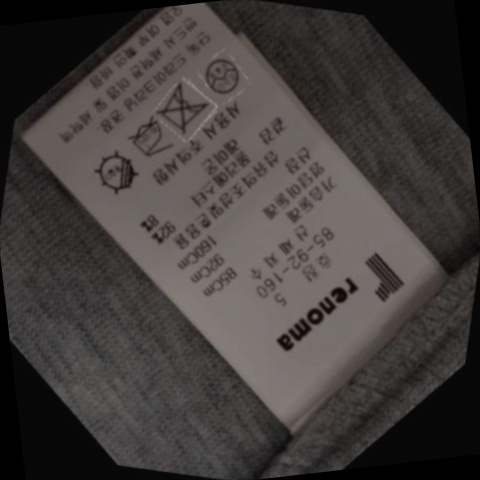DN_wash: (151, 78, 220, 141)
dry_clean_petrol_only: (197, 48, 252, 102)
iron_low: (119, 111, 180, 168)
line_dry_in_shade: (87, 144, 153, 203)
